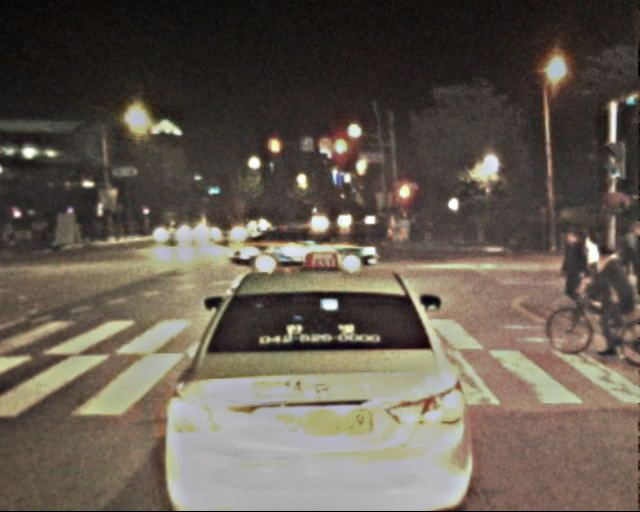person: (586, 241, 633, 356), (555, 229, 585, 301), (621, 221, 640, 293), (578, 228, 601, 283), (410, 216, 435, 245), (5, 214, 25, 249)
